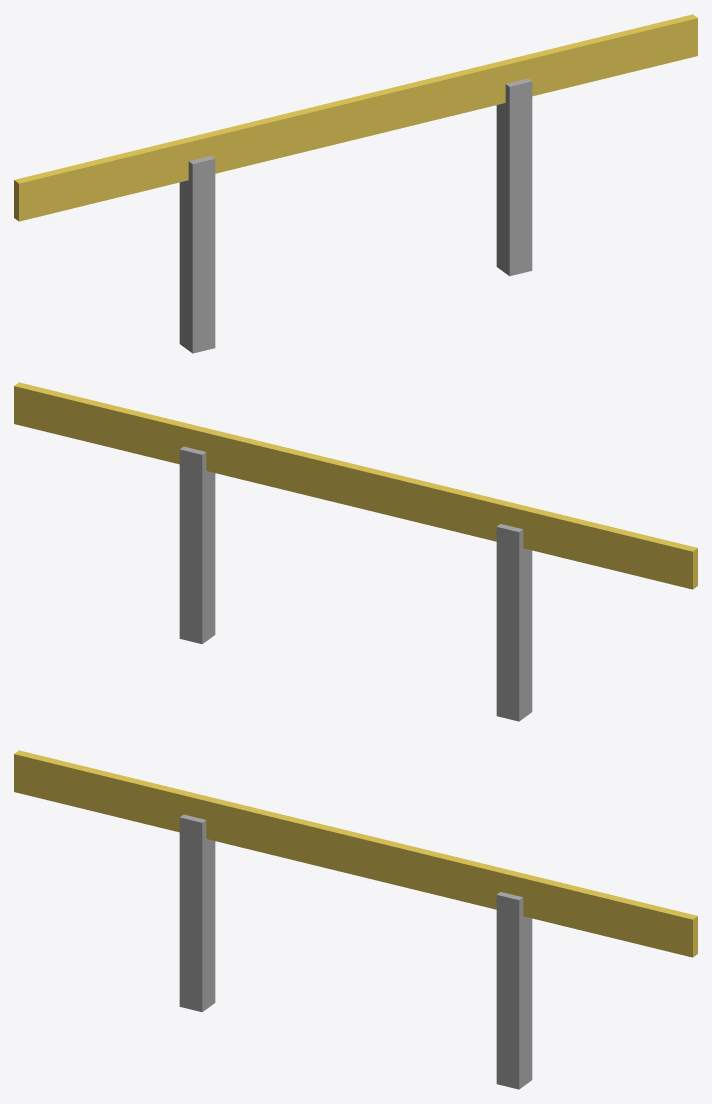
Rendered from crime_barricade.glb.
3 renders of one model, top to bottom at view 1: azimuth 30°, elevation 25°; view 2: azimuth 150°, elevation 25°; view 3: azimuth 330°, elevation 25°, orthographic.
Visible parts, largest first — view 1: tape_bar, post2, post1; view 2: tape_bar, post2, post1; view 3: tape_bar, post1, post2.
Boxes of the visible parts, x1=… form: tape_bar: x1=14, y1=14, x2=697, y2=221; post2: x1=496, y1=78, x2=532, y2=276; post1: x1=179, y1=156, x2=215, y2=353; tape_bar: x1=14, y1=382, x2=697, y2=589; post2: x1=179, y1=446, x2=215, y2=644; post1: x1=496, y1=524, x2=532, y2=721; tape_bar: x1=14, y1=750, x2=697, y2=957; post1: x1=179, y1=814, x2=215, y2=1012; post2: x1=496, y1=892, x2=532, y2=1089.
Size of the model in its own units: 3 by 0.88 by 0.1001.
